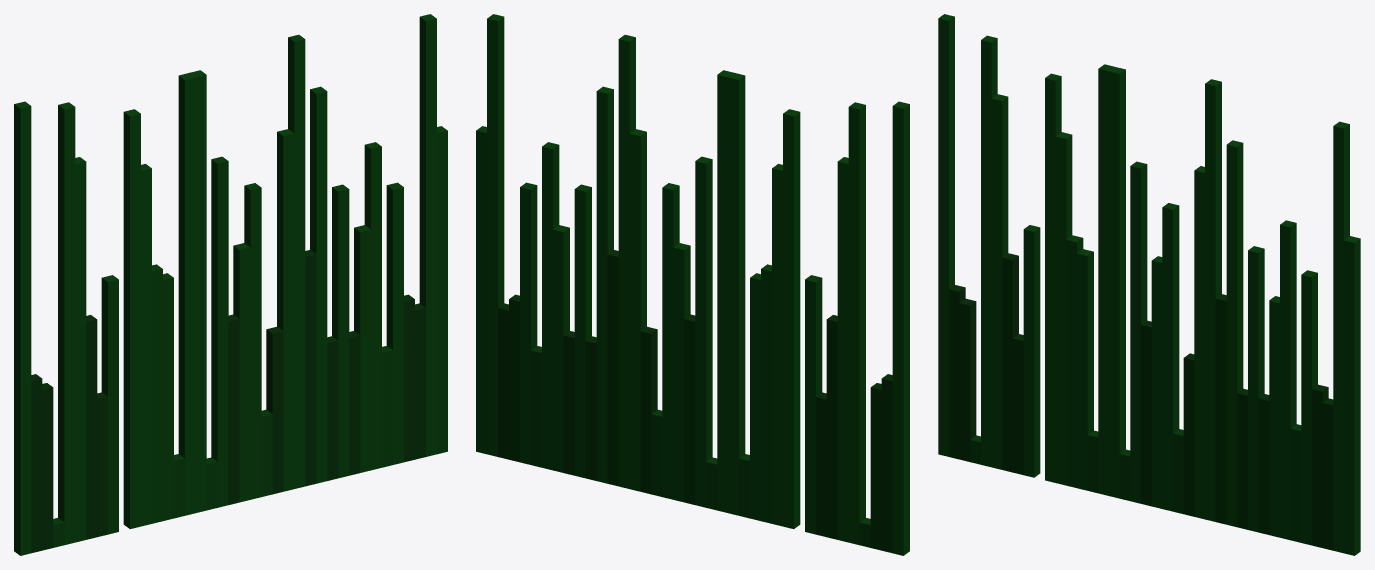
File: TreeTest-0.obj
The picture shows the model from 3 angles, left to right: view 1: azimuth 30°, elevation 25°; view 2: azimuth 150°, elevation 25°; view 3: azimuth 330°, elevation 25°; orthographic projection. The views are drawn at different scales.
Bounding box in the file's own units: 3.9 × 3.9 × 0.1.
1 material, 1 textured.
